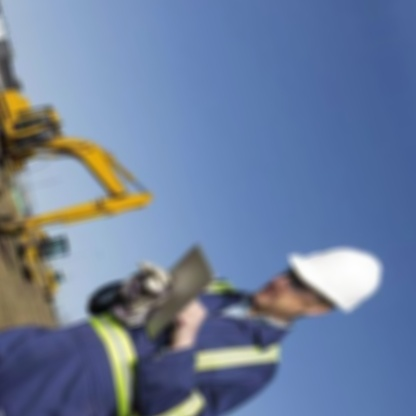vest: (66, 247, 304, 416)
white: (273, 224, 399, 330)
